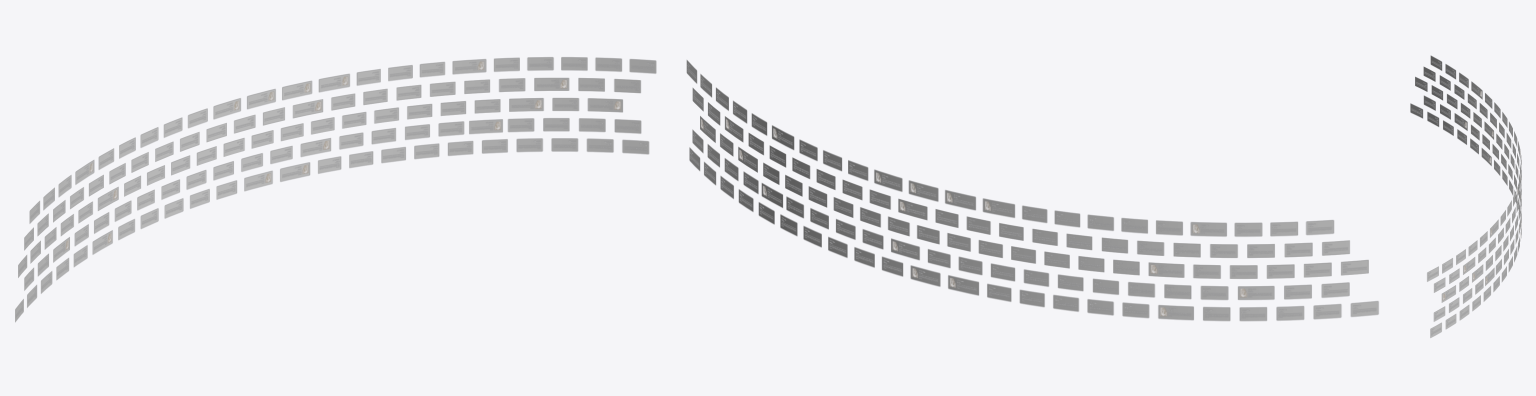
Rendered from OrbitStair_typC_250730.glb.
The picture shows the model from 3 angles, left to right: view 1: azimuth 30°, elevation 25°; view 2: azimuth 150°, elevation 25°; view 3: azimuth 270°, elevation 25°; orthographic projection. The views are drawn at different scales.
Parts seen in each view (by area): view 1: 03; view 2: 03; view 3: 03.
Part boxes in pixels (x1,y1,x2,y2): 03: (15,57,656,321); 03: (686,60,1378,320); 03: (1410,55,1521,337).
Bounding box in the file's own units: 14 × 4.01 × 2.91.
2 materials, 1 textured.
